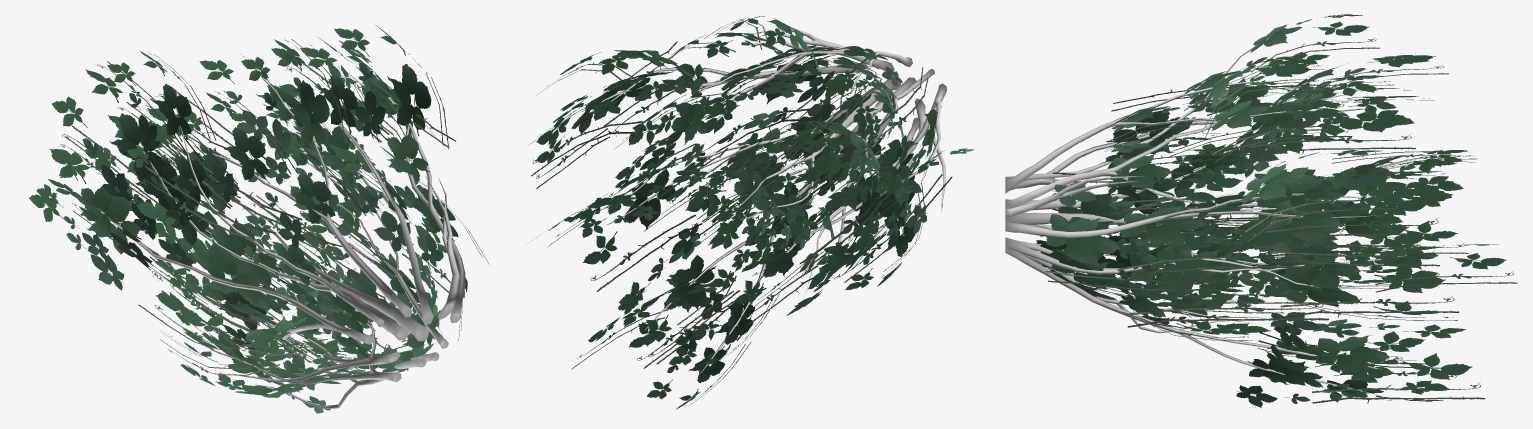
File: Bush_0025.FBX
The picture shows the model from 3 angles, left to right: view 1: azimuth 30°, elevation 25°; view 2: azimuth 150°, elevation 25°; view 3: azimuth 270°, elevation 25°; orthographic projection. The views are drawn at different scales.
Parts seen in each view (by area): view 1: plant1_LOD0; view 2: plant1_LOD0; view 3: plant1_LOD0.
Part boxes in pixels (x1=…): plant1_LOD0: x1=29, y1=24, x2=489, y2=413; plant1_LOD0: x1=528, y1=16, x2=974, y2=409; plant1_LOD0: x1=1005, y1=14, x2=1517, y2=408.
Size of the model in its own units: 54.02 by 63.99 by 47.35.
